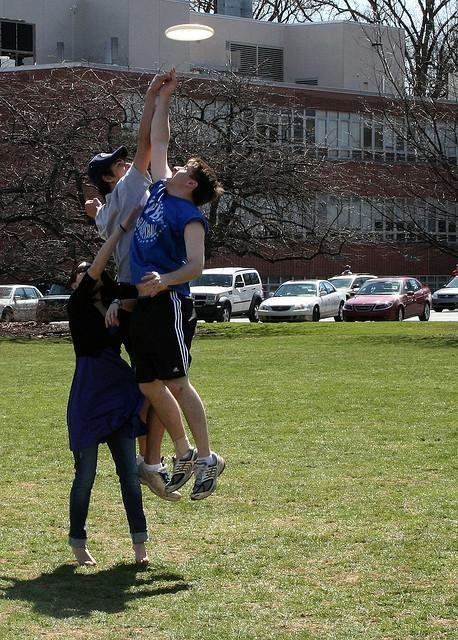car: (189, 268, 264, 324), (342, 276, 431, 322), (257, 278, 345, 322), (1, 284, 44, 322), (37, 280, 73, 322), (327, 273, 378, 300), (431, 276, 458, 312)
